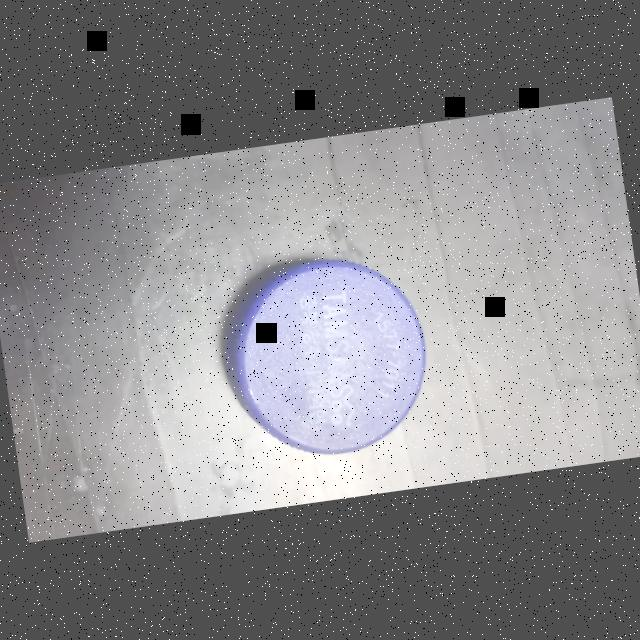plastic_bottle_cap: (205, 237, 443, 476)
